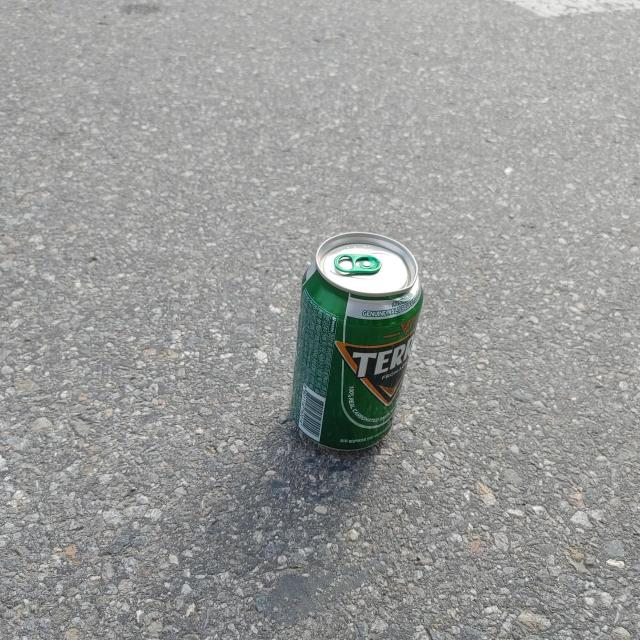can: (292, 232, 423, 451)
